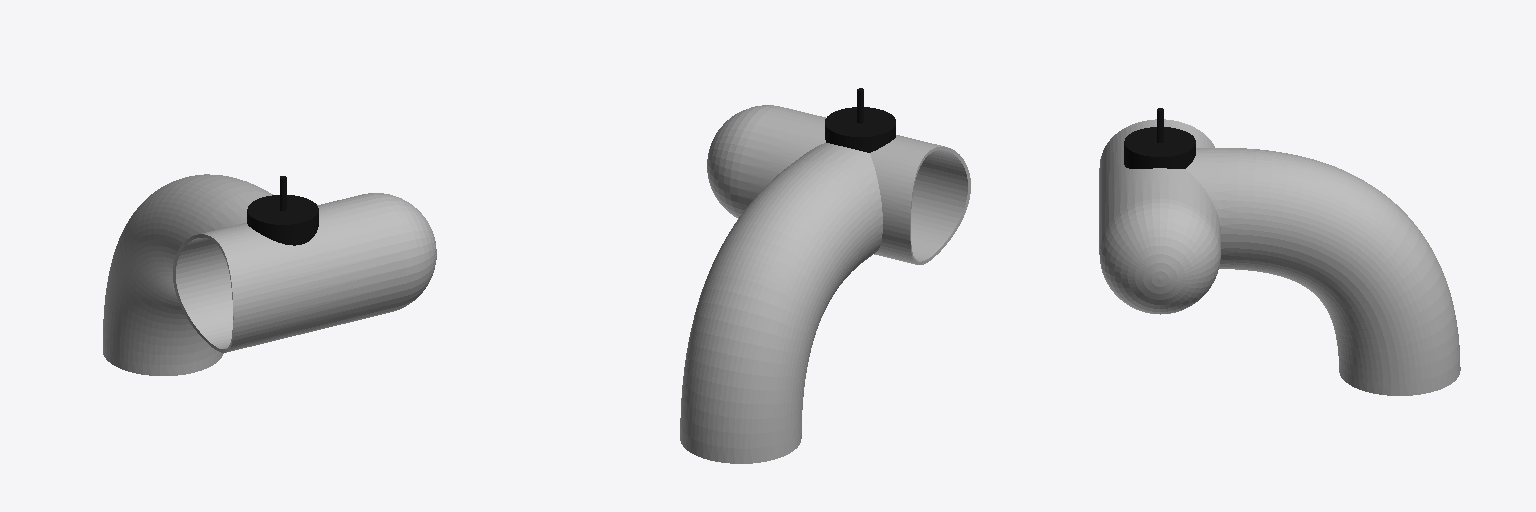
Rendered from SupportPipeBL.obj.
3 views of the same model, side by side, from view 1: azimuth 30°, elevation 25°; view 2: azimuth 150°, elevation 25°; view 3: azimuth 270°, elevation 25° (orthographic).
Parts seen in each view (by area): view 1: SupportPipeBL_Support_Pipe_v16.002; view 2: SupportPipeBL_Support_Pipe_v16.002; view 3: SupportPipeBL_Support_Pipe_v16.002.
Part boxes in pixels (x1,y1,x2,y2): SupportPipeBL_Support_Pipe_v16.002: (103, 174, 436, 375); SupportPipeBL_Support_Pipe_v16.002: (680, 88, 970, 463); SupportPipeBL_Support_Pipe_v16.002: (1099, 108, 1460, 395).
Bounding box in the file's own units: 0.0728 × 0.0805 × 0.101.